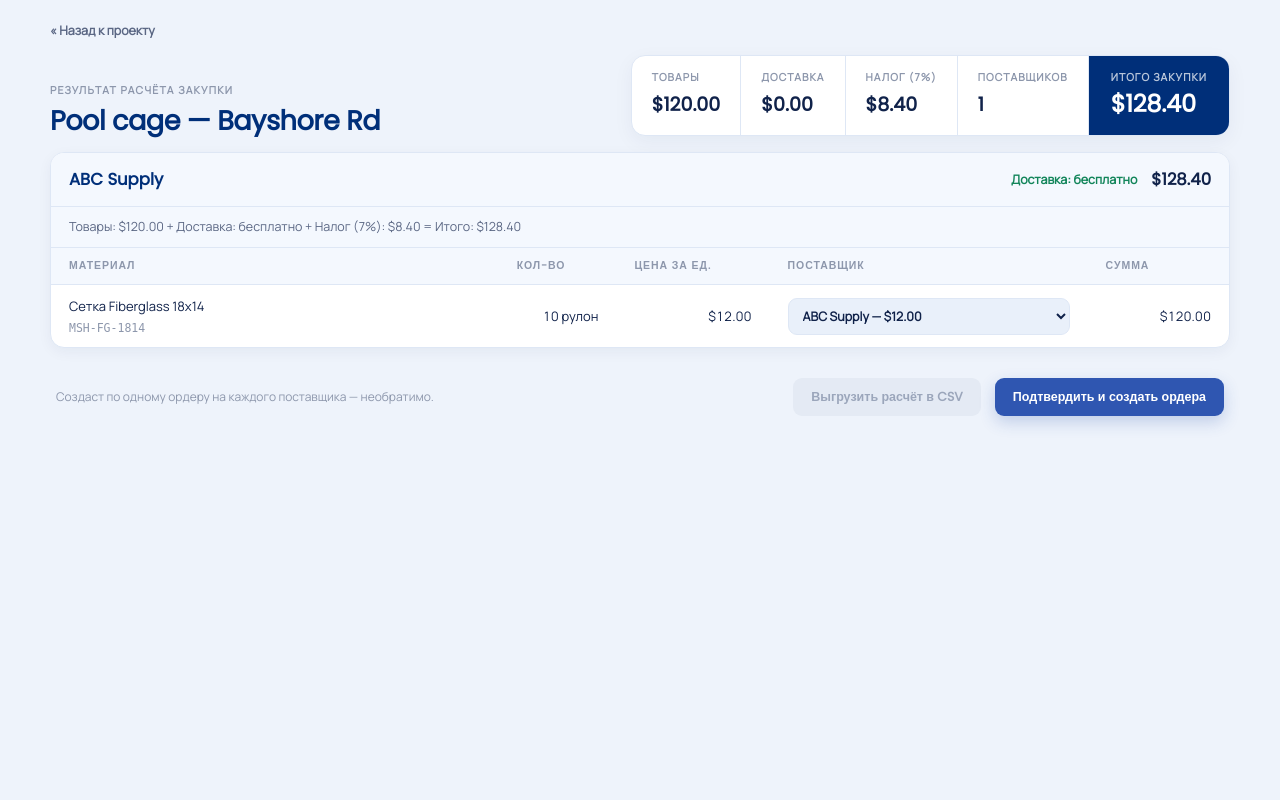
AllocationResultPage › opens the conflict modal instead of an error banner on 409, and lists the conflicting suppliers
Step 1. Click the button "Подтвердить и создать ордера" → (1109, 397), box [995,378,1224,416]
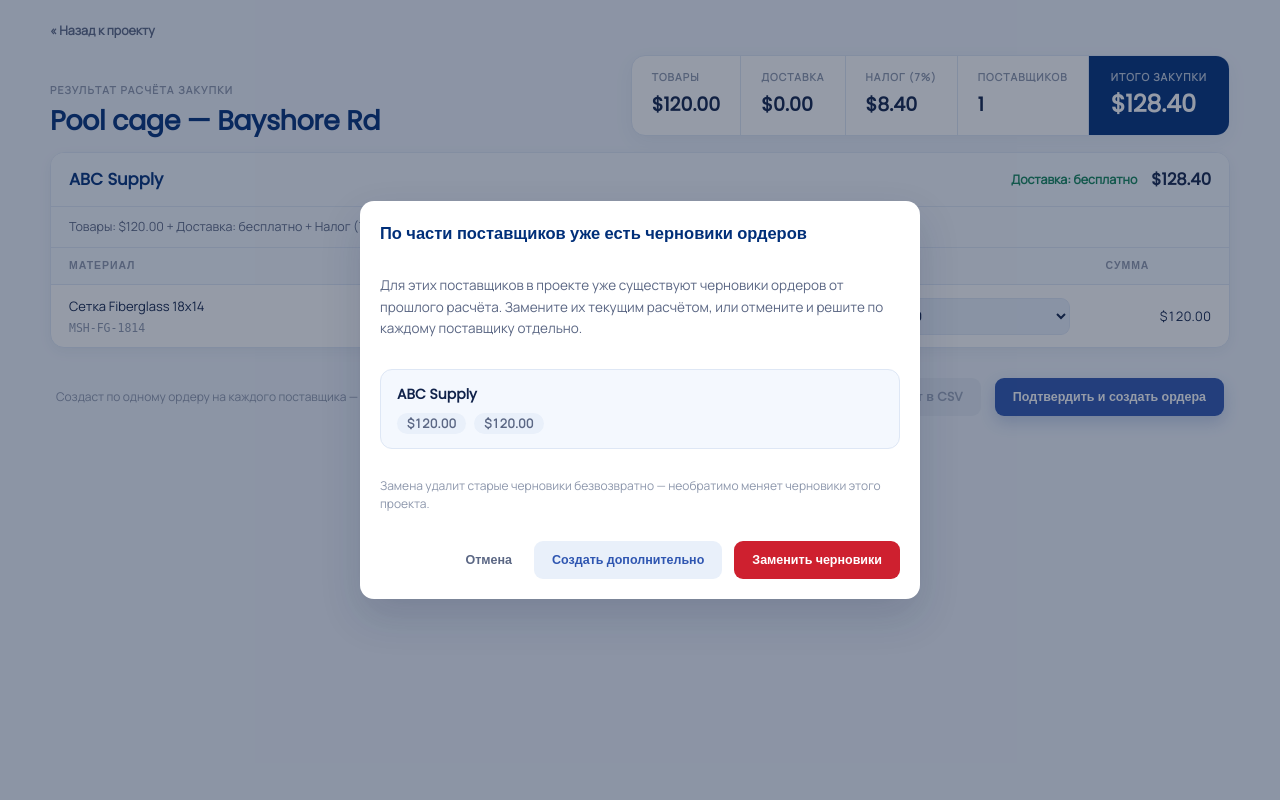
Result: the text "$120.00" is shown 2 times at [397,413,466,434]; [474,413,544,434]
